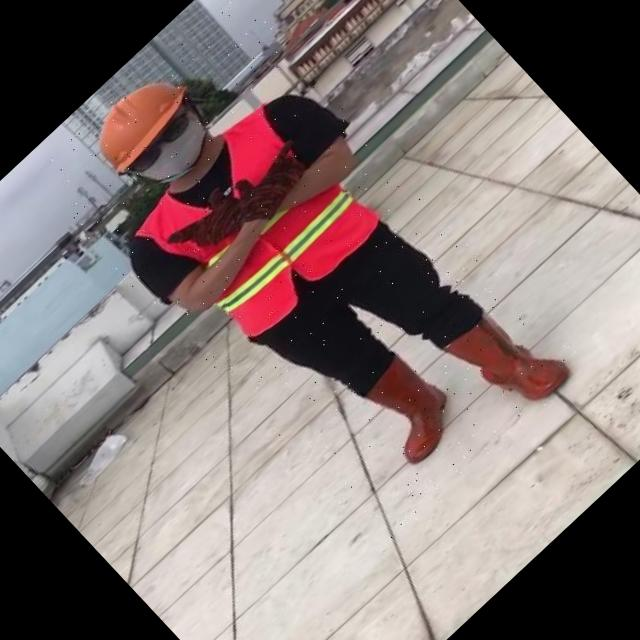hard_hat: (70, 52, 206, 185)
safety_vest: (126, 95, 388, 355)
vehicle: (32, 0, 589, 555)
work_boots: (443, 295, 572, 426), (352, 348, 471, 468)
